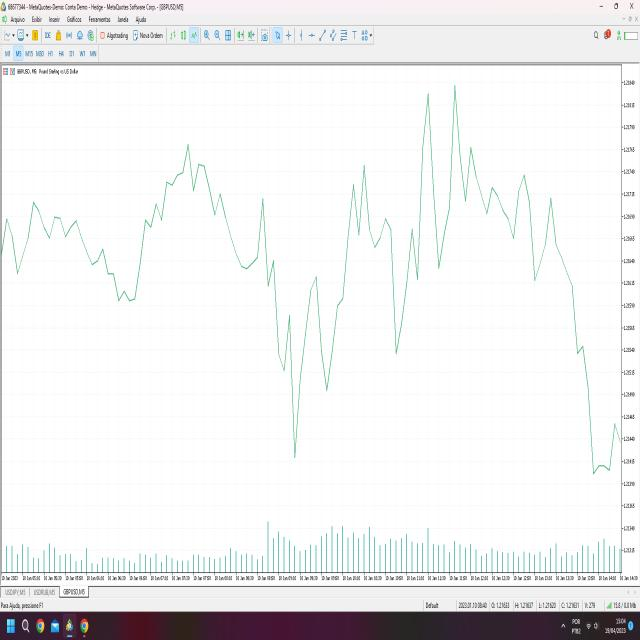oco_inv: (270, 252, 352, 472)
topo_duplo: (416, 78, 467, 304)
